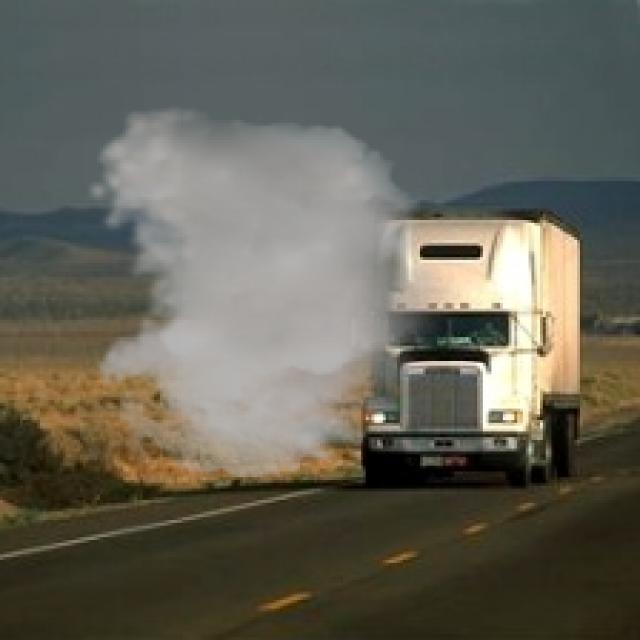Smoke: (86, 106, 472, 477)
